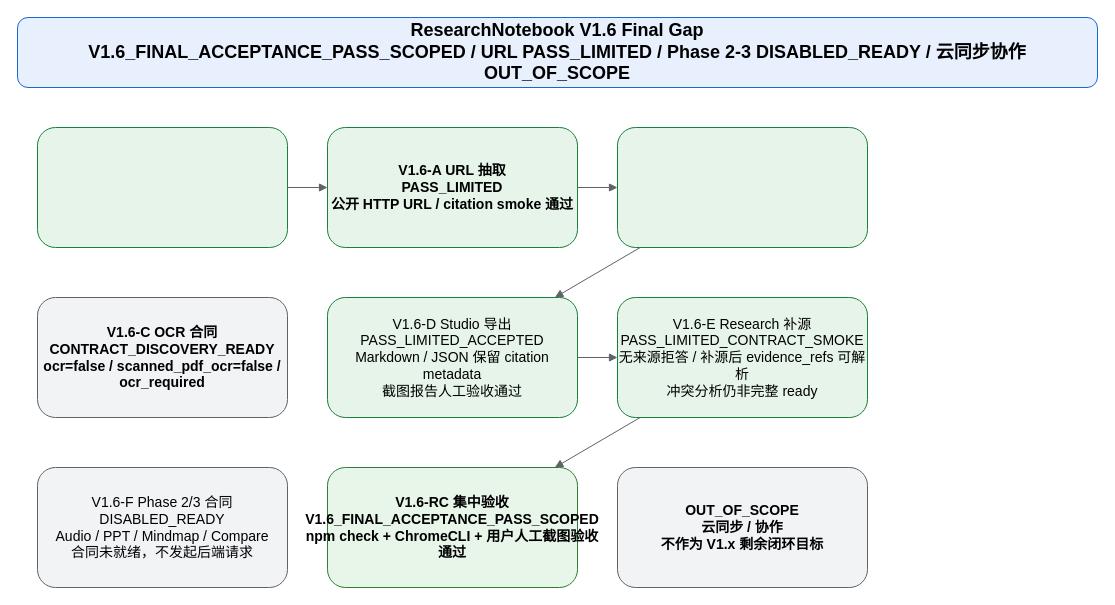
Some shapes in this 1115 by 605 pixel diagram are drawn without their labels. Here are the shapes that lost their labels. From the top down, the centre of each, then its label:
At pixel 162 187: "V1.6-0 Gate PASS V1.5 revalidation PASS_LIMITED 历史 BLOCKED 已标注 superseded".
At pixel 742 187: "V1.6-B 质量评测集 PASS_LIMITED_ACCEPTED 三组真实数据集 + 截图报告人工验收通过".
